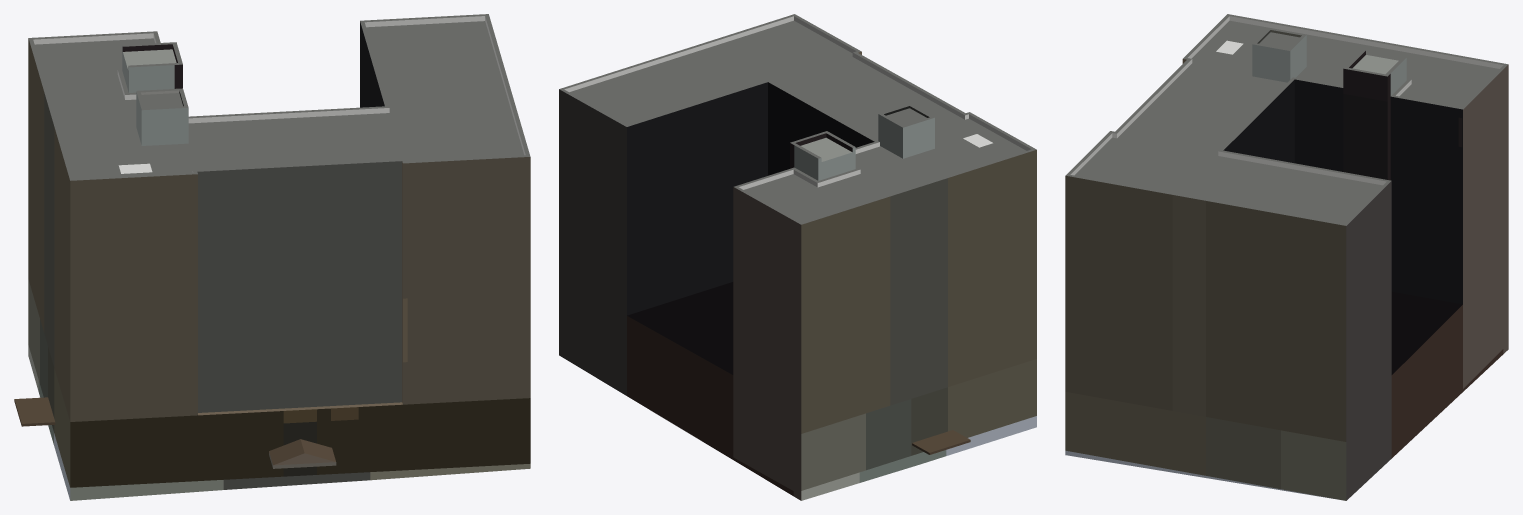
The model's file is patten-towers.glb.
The picture shows the model from 3 angles, left to right: view 1: azimuth 30°, elevation 25°; view 2: azimuth 150°, elevation 25°; view 3: azimuth 270°, elevation 25°; orthographic projection. The views are drawn at different scales.
Parts seen in each view (by area): view 1: LOD0; view 2: LOD0; view 3: LOD0.
Boxes of the visible parts, x1,y1,x2,y2 form: LOD0: (14,14,530,500); LOD0: (559,14,1036,500); LOD0: (1065,14,1508,500).
Size of what is drawn, in the model's own units: 60.46 by 41.8 by 53.4.
2 materials, 2 textured.
